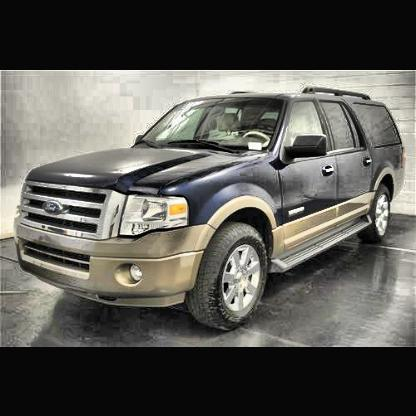Ford Expedition EL SUV 2009: (17, 86, 409, 334)
